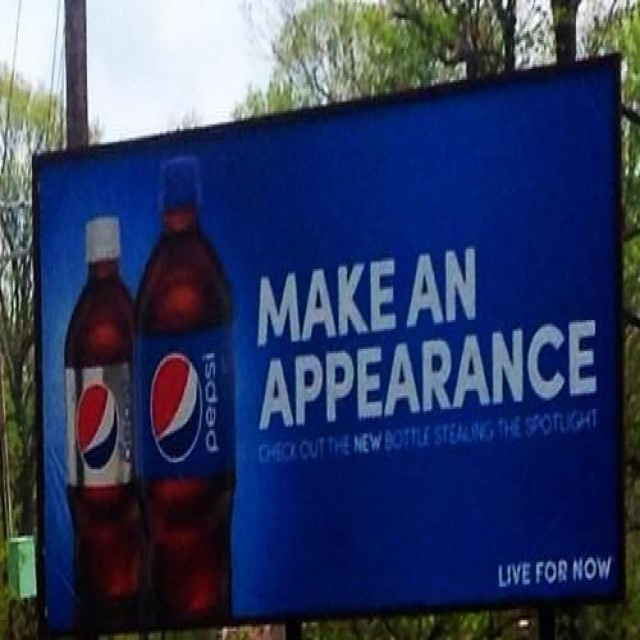pepsi: (148, 348, 202, 464), (74, 380, 119, 475)
